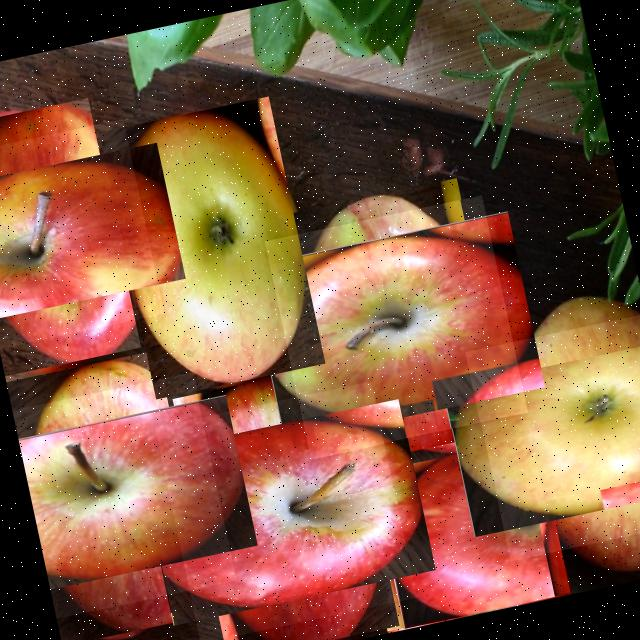Fresh Apple: (264, 194, 530, 459), (99, 96, 326, 400), (154, 380, 419, 639), (12, 372, 237, 620), (465, 313, 639, 562), (361, 434, 564, 630), (0, 118, 166, 350)
